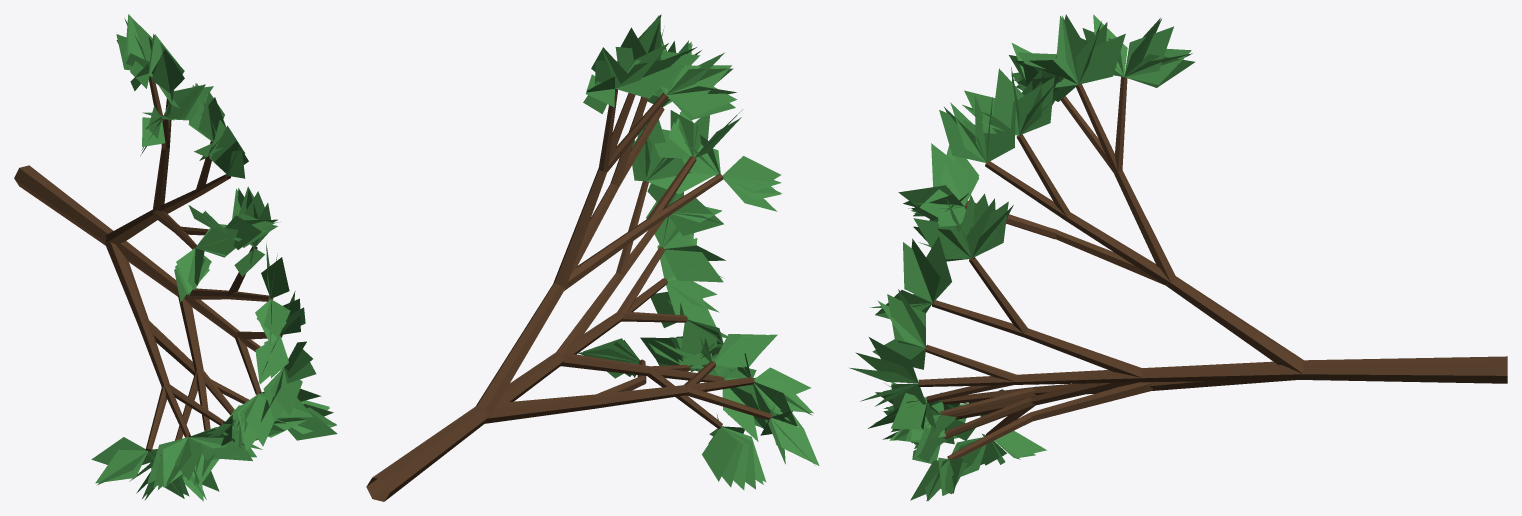
The model's file is sapling_seed2.obj.
3 renders of one model, left to right at view 1: azimuth 30°, elevation 25°; view 2: azimuth 150°, elevation 25°; view 3: azimuth 270°, elevation 25°, orthographic. The views are drawn at different scales.
Bounding box in the file's own units: 1.3 × 2.34 × 2.88.
